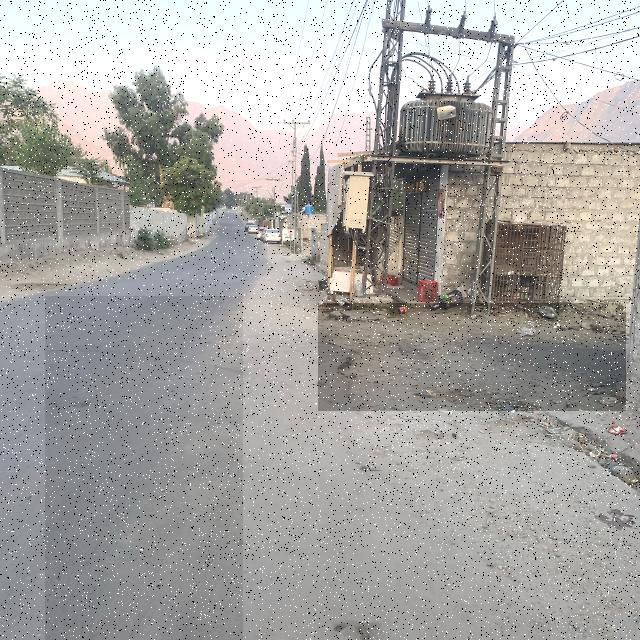right: (318, 303, 626, 411)
straight: (45, 296, 243, 640)
